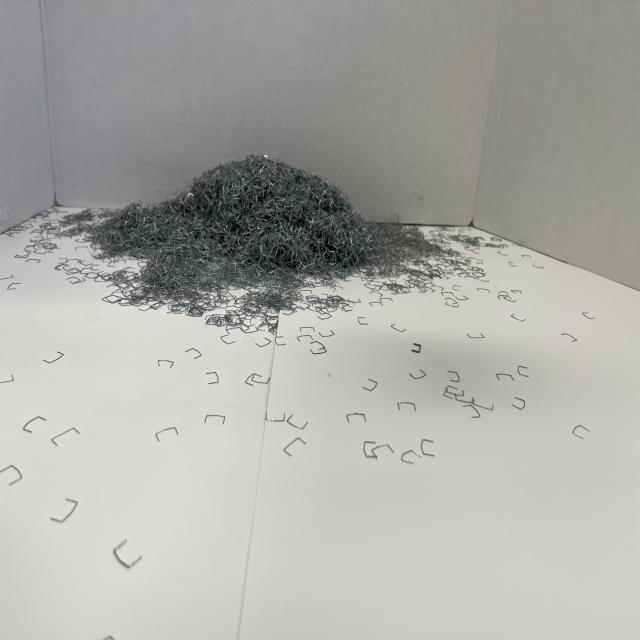staples: (76, 150, 378, 309)
